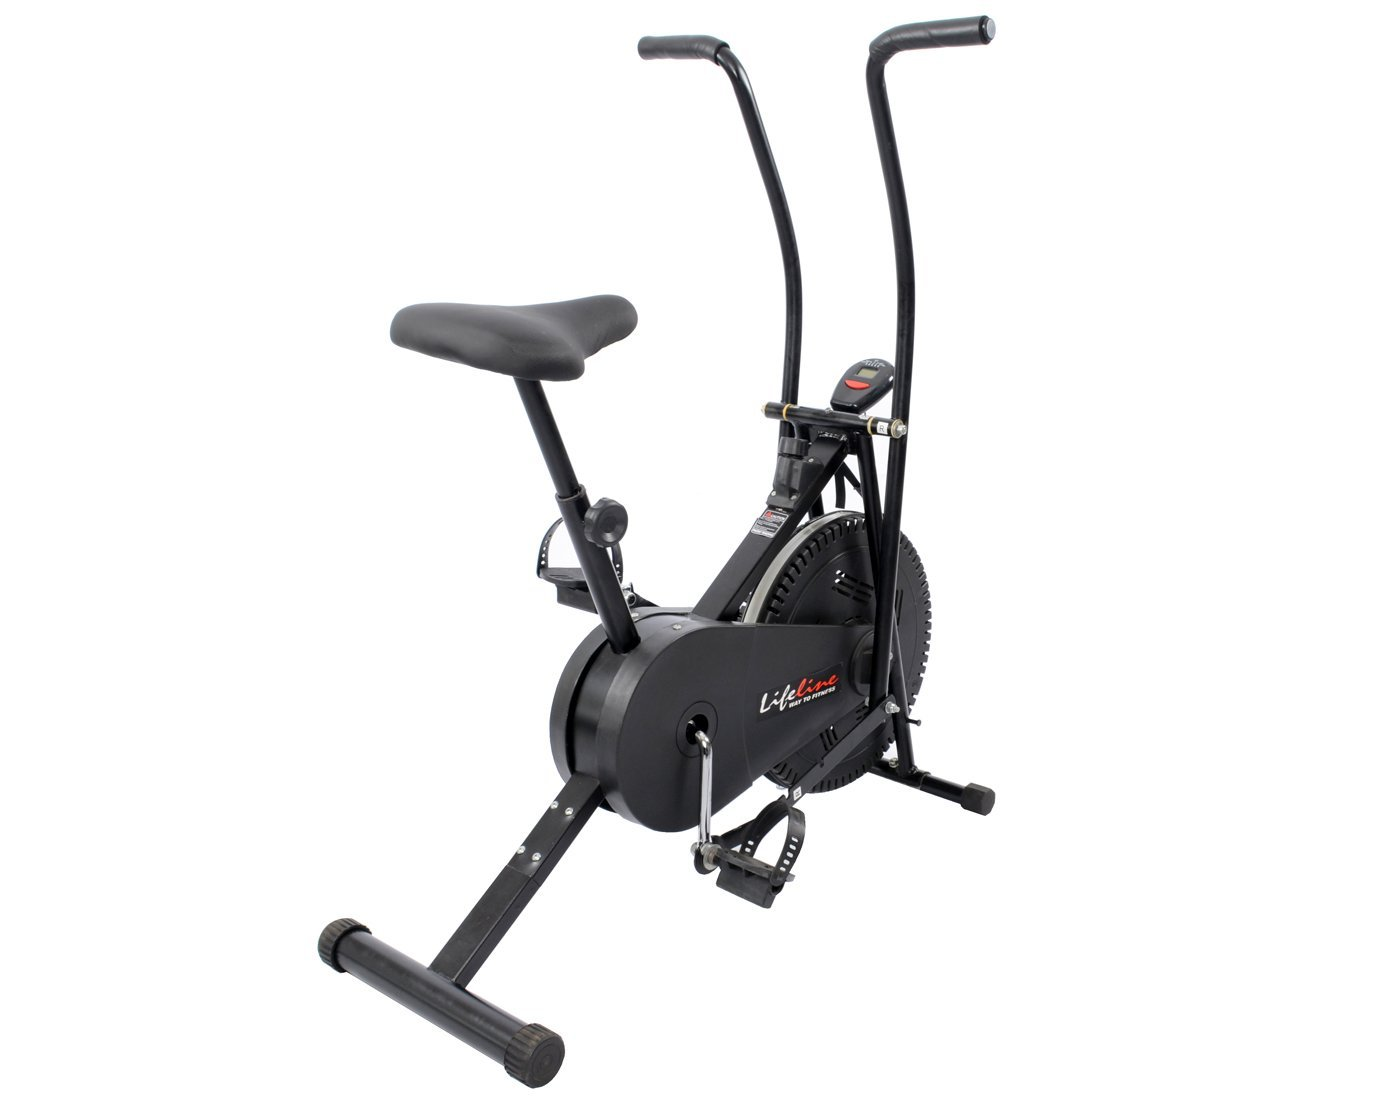gym_bike: (270, 22, 1048, 1095)
